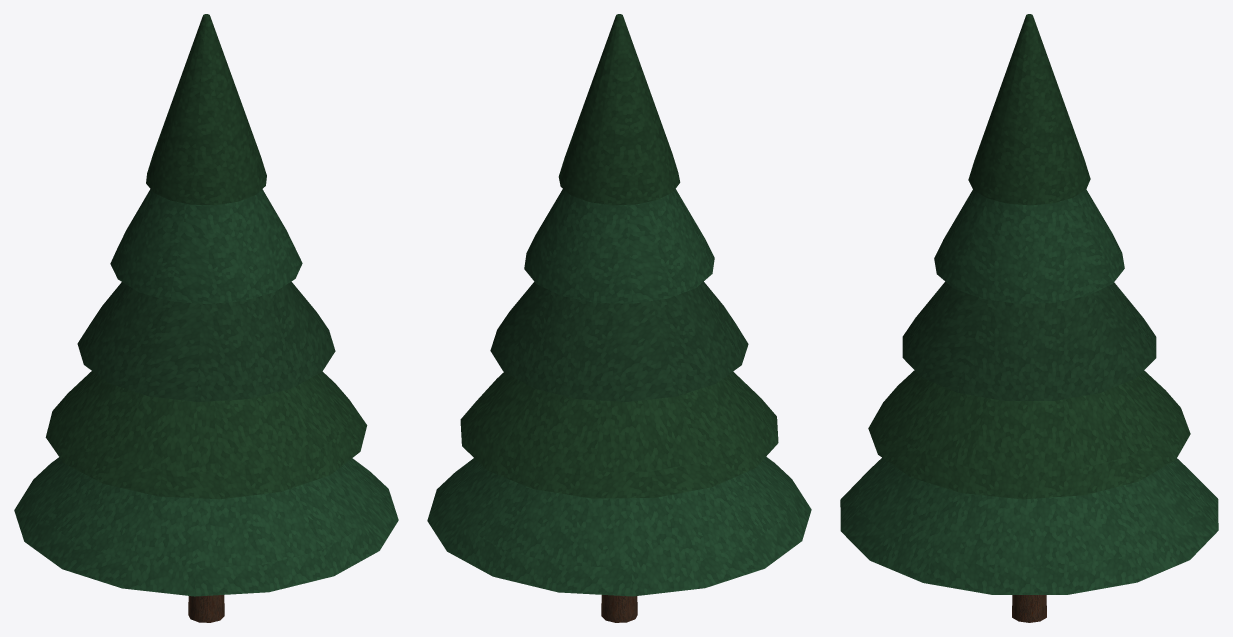
The model's file is a-realistic-pine-tree-8-metres-tall-85320-realistic.glb.
3 views of the same model, side by side, from view 1: azimuth 30°, elevation 25°; view 2: azimuth 150°, elevation 25°; view 3: azimuth 270°, elevation 25° (orthographic).
Visible parts, largest first — view 1: tree; view 2: tree; view 3: tree.
Part boxes in pixels (left/top/right/bottom): tree: left=14, top=14, right=398, bottom=622; tree: left=427, top=14, right=811, bottom=622; tree: left=840, top=14, right=1218, bottom=622.
Size of the model in its own units: 5.44 by 9.52 by 5.44.
Materials: 4 (4 with a texture image).
